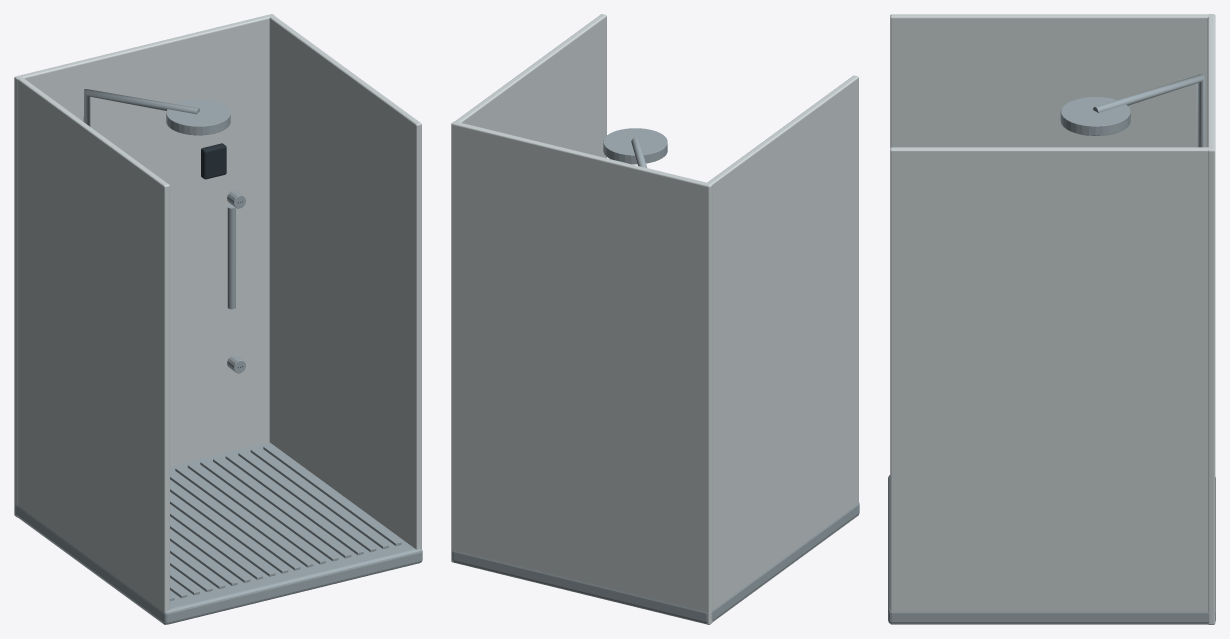
File: SF_DeconShower.fbx
3 views of the same model, side by side, from view 1: azimuth 30°, elevation 25°; view 2: azimuth 150°, elevation 25°; view 3: azimuth 270°, elevation 25° (orthographic). The views are drawn at different scales.
Visible parts, largest first — view 1: SF_DeconShower; view 2: SF_DeconShower; view 3: SF_DeconShower.
Part boxes in pixels (x1,y1,x2,y2): SF_DeconShower: [14, 14, 422, 624]; SF_DeconShower: [451, 14, 859, 624]; SF_DeconShower: [888, 14, 1215, 624].
Size of the model in its own units: 148 by 240 by 150.
